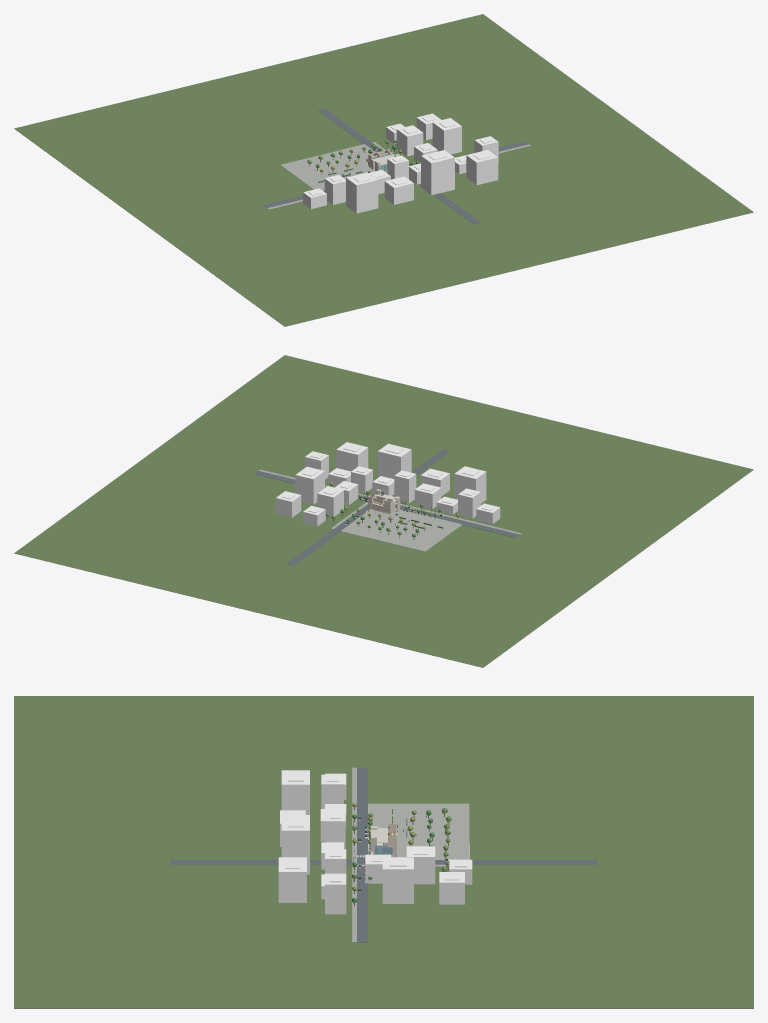
The model's file is mdcc.glb.
3 renders of one model, top to bottom at view 1: azimuth 30°, elevation 25°; view 2: azimuth 150°, elevation 25°; view 3: azimuth 270°, elevation 25°, orthographic. The views are drawn at different scales.
Visible parts, largest first — view 1: ENV_Ground_Grass, ENV_Plaza_West, ENV_Bldg_11_Tower, ENV_Bldg_09_Tower, ENV_Bldg_12_Tower, ENV_Bldg_16_Tower, ENV_Bldg_10_Tower, ENV_Bldg_14_Tower, ENV_Bldg_01_Tower; view 2: ENV_Ground_Grass, ENV_Plaza_West, ENV_Bldg_11_Tower, ENV_Bldg_16_Tower, ENV_Bldg_09_Tower, ENV_Bldg_12_Tower, ENV_Plaza_North, ENV_Bldg_14_Tower, ENV_Bldg_04_Tower, ENV_Bldg_17_Tower, ENV_Bldg_01_Tower; view 3: ENV_Ground_Grass, ENV_Plaza_West, ENV_Bldg_16_Tower, ENV_Bldg_12_Tower, ENV_Bldg_11_Tower, ENV_Bldg_09_Tower, ENV_Bldg_14_Tower, ENV_Bldg_08_Tower, ENV_Road_Front_E, ENV_Road_Front_W, ENV_Plaza_North, ENV_Bldg_17_Tower (+5 smaller).
Boxes of the visible parts, x1,y1,x2,y2 form: ENV_Ground_Grass: (14, 14, 753, 326); ENV_Plaza_West: (281, 150, 368, 190); ENV_Bldg_11_Tower: (421, 150, 454, 195); ENV_Bldg_09_Tower: (346, 172, 378, 213); ENV_Bldg_12_Tower: (466, 150, 498, 185); ENV_Bldg_16_Tower: (432, 118, 461, 154); ENV_Bldg_10_Tower: (384, 176, 413, 204); ENV_Bldg_14_Tower: (396, 125, 423, 156); ENV_Bldg_01_Tower: (324, 175, 345, 204); ENV_Ground_Grass: (14, 355, 753, 667); ENV_Plaza_West: (366, 510, 461, 551); ENV_Bldg_11_Tower: (377, 443, 411, 478); ENV_Bldg_16_Tower: (295, 466, 324, 504); ENV_Bldg_09_Tower: (454, 466, 486, 503); ENV_Bldg_12_Tower: (336, 442, 368, 471); ENV_Plaza_North: (341, 512, 388, 536); ENV_Bldg_14_Tower: (317, 486, 343, 516); ENV_Bldg_04_Tower: (394, 470, 416, 503); ENV_Bldg_17_Tower: (275, 491, 301, 517); ENV_Bldg_01_Tower: (458, 488, 480, 518); ENV_Ground_Grass: (14, 696, 753, 1008); ENV_Plaza_West: (368, 803, 469, 843); ENV_Bldg_16_Tower: (382, 857, 413, 903); ENV_Bldg_12_Tower: (278, 857, 306, 902); ENV_Bldg_11_Tower: (281, 815, 309, 874); ENV_Bldg_09_Tower: (281, 770, 309, 814); ENV_Bldg_14_Tower: (406, 846, 435, 884); ENV_Bldg_08_Tower: (325, 873, 346, 914); ENV_Road_Front_E: (357, 866, 368, 942); ENV_Road_Front_W: (357, 768, 368, 838); ENV_Plaza_North: (399, 843, 469, 859); ENV_Bldg_17_Tower: (439, 872, 464, 904).
Bounding box in the file's own units: 520 × 43.75 × 520.
